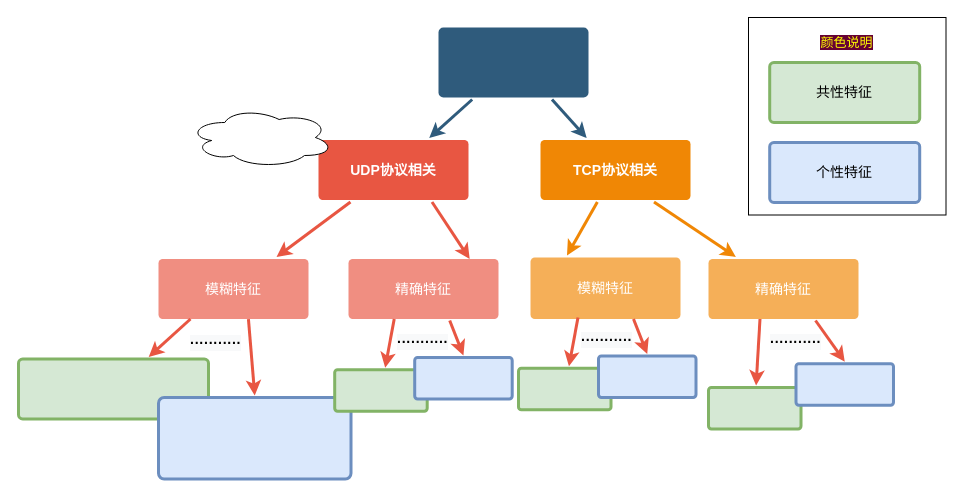
The diagram is 964 pixels wide and 498 high, and some of its shapes have lost their labels. The centre of each missing label's shape, as x and y in pixels:
"40字节≤包长度≤1279字节；49000<客户端端口<65535； ···········" goes at point (113, 388).
"特征" goes at point (513, 62).
"腾讯会议： 8000≤服务端端口≤8020； 1个Pivot会话+N个辅助会话； ···········" goes at point (254, 438).
"音视频通信会话" goes at point (261, 137).
